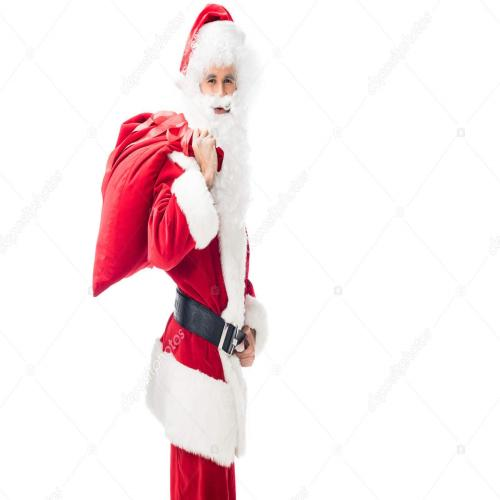Santa: (146, 4, 268, 498)
